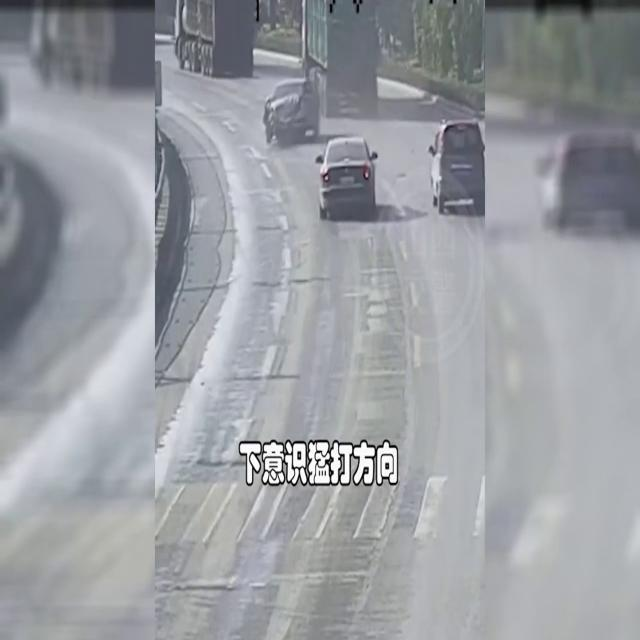multiple_accident: (486, 2, 640, 281)
normal: (313, 133, 384, 227)
